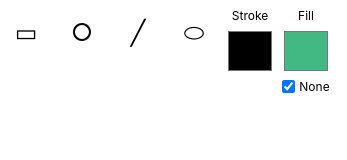
Scenario: DrawingToolbar › unchecks no fill when color picker is clicked
Click the colour field with id "fill-color" at (306, 51), box [282, 27, 330, 75]
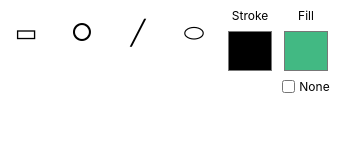
expect the checkbox labelled "None" is not checked: met, box [282, 80, 295, 93]
